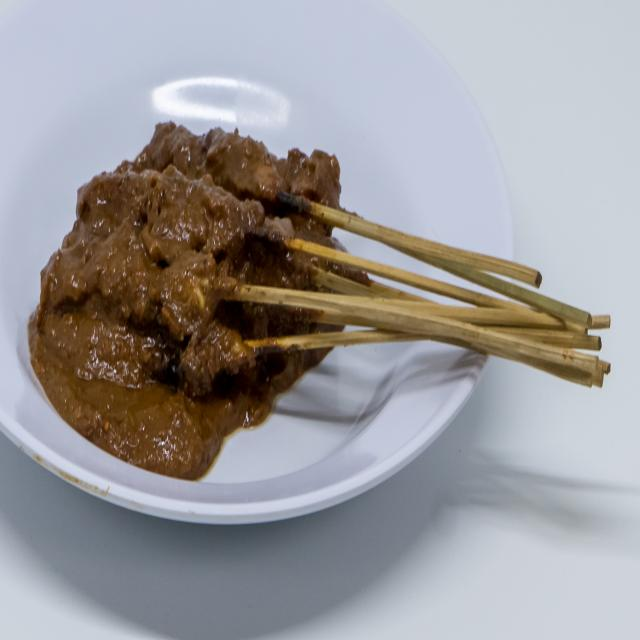Sate-Ayam: (28, 76, 368, 421)
